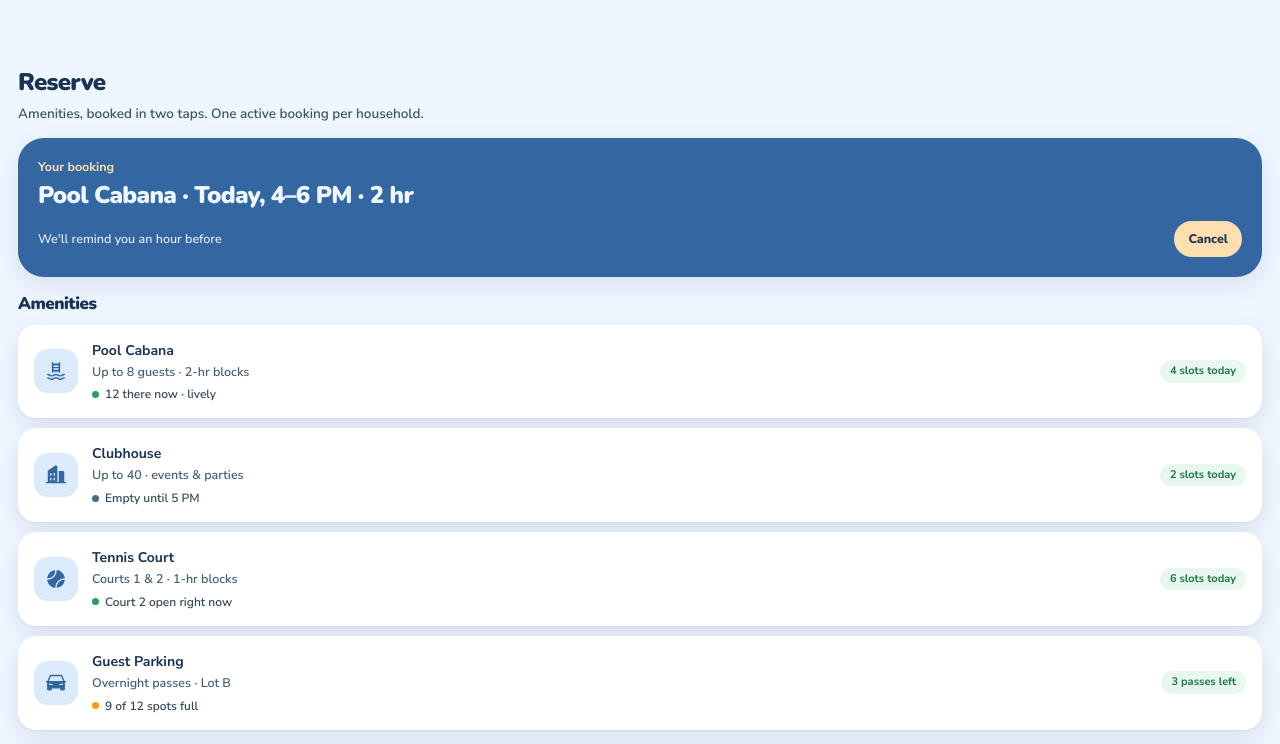
Test case: taken slot joins waitlist instead of selecting
Click the text "Pool Cabana". click: (133, 350)
box: [92, 341, 174, 360]
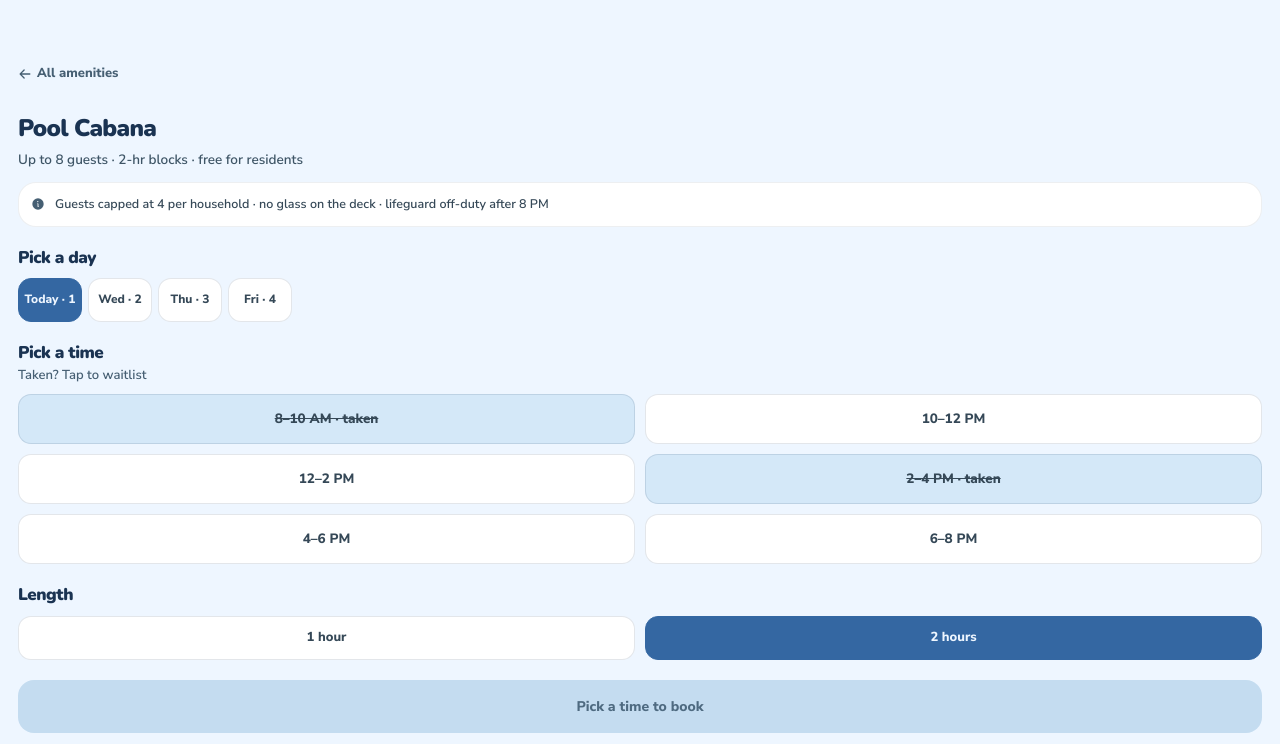
Click the button "8–10 AM · taken". click: (326, 419)
box: [18, 394, 635, 444]
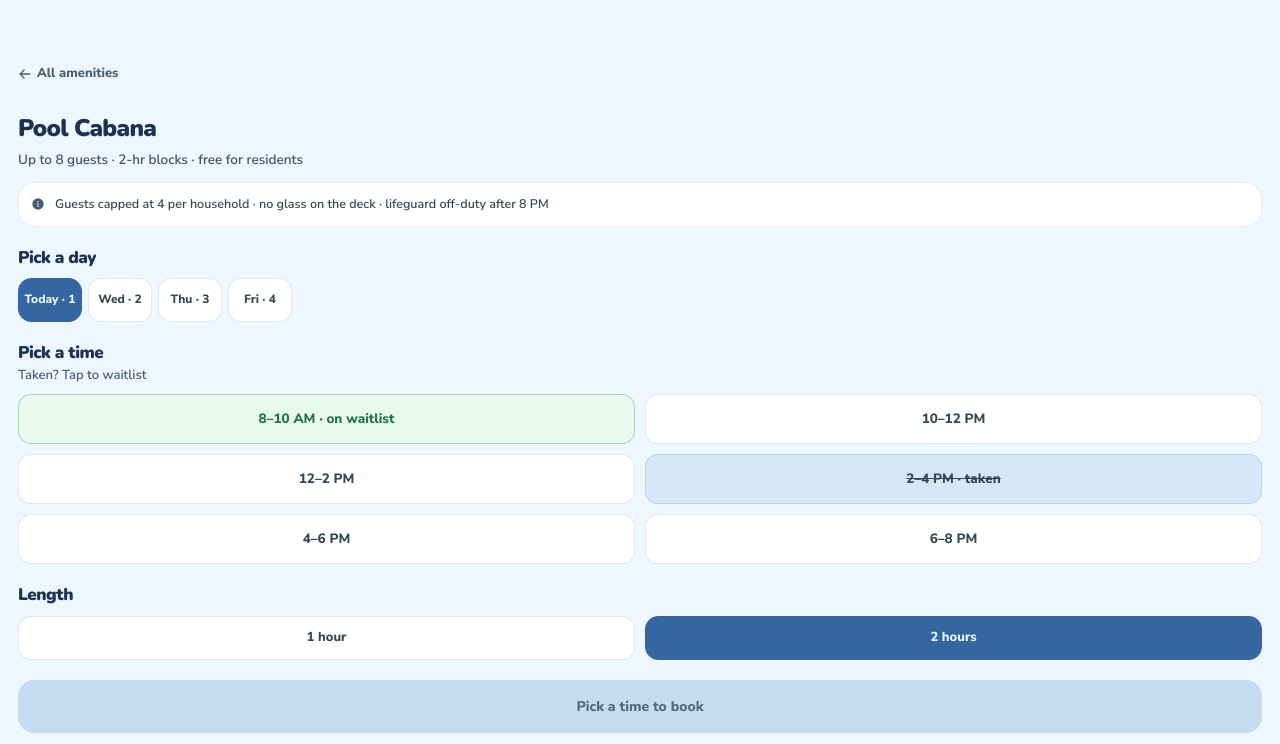
Result: the button "8–10 AM · on waitlist" is shown at [18, 394, 635, 444]
